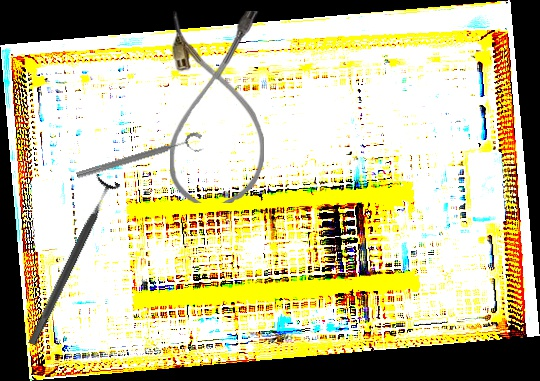Cannula: (170, 11, 264, 203)
Fixation Ring: (18, 172, 122, 351), (74, 130, 207, 189)
